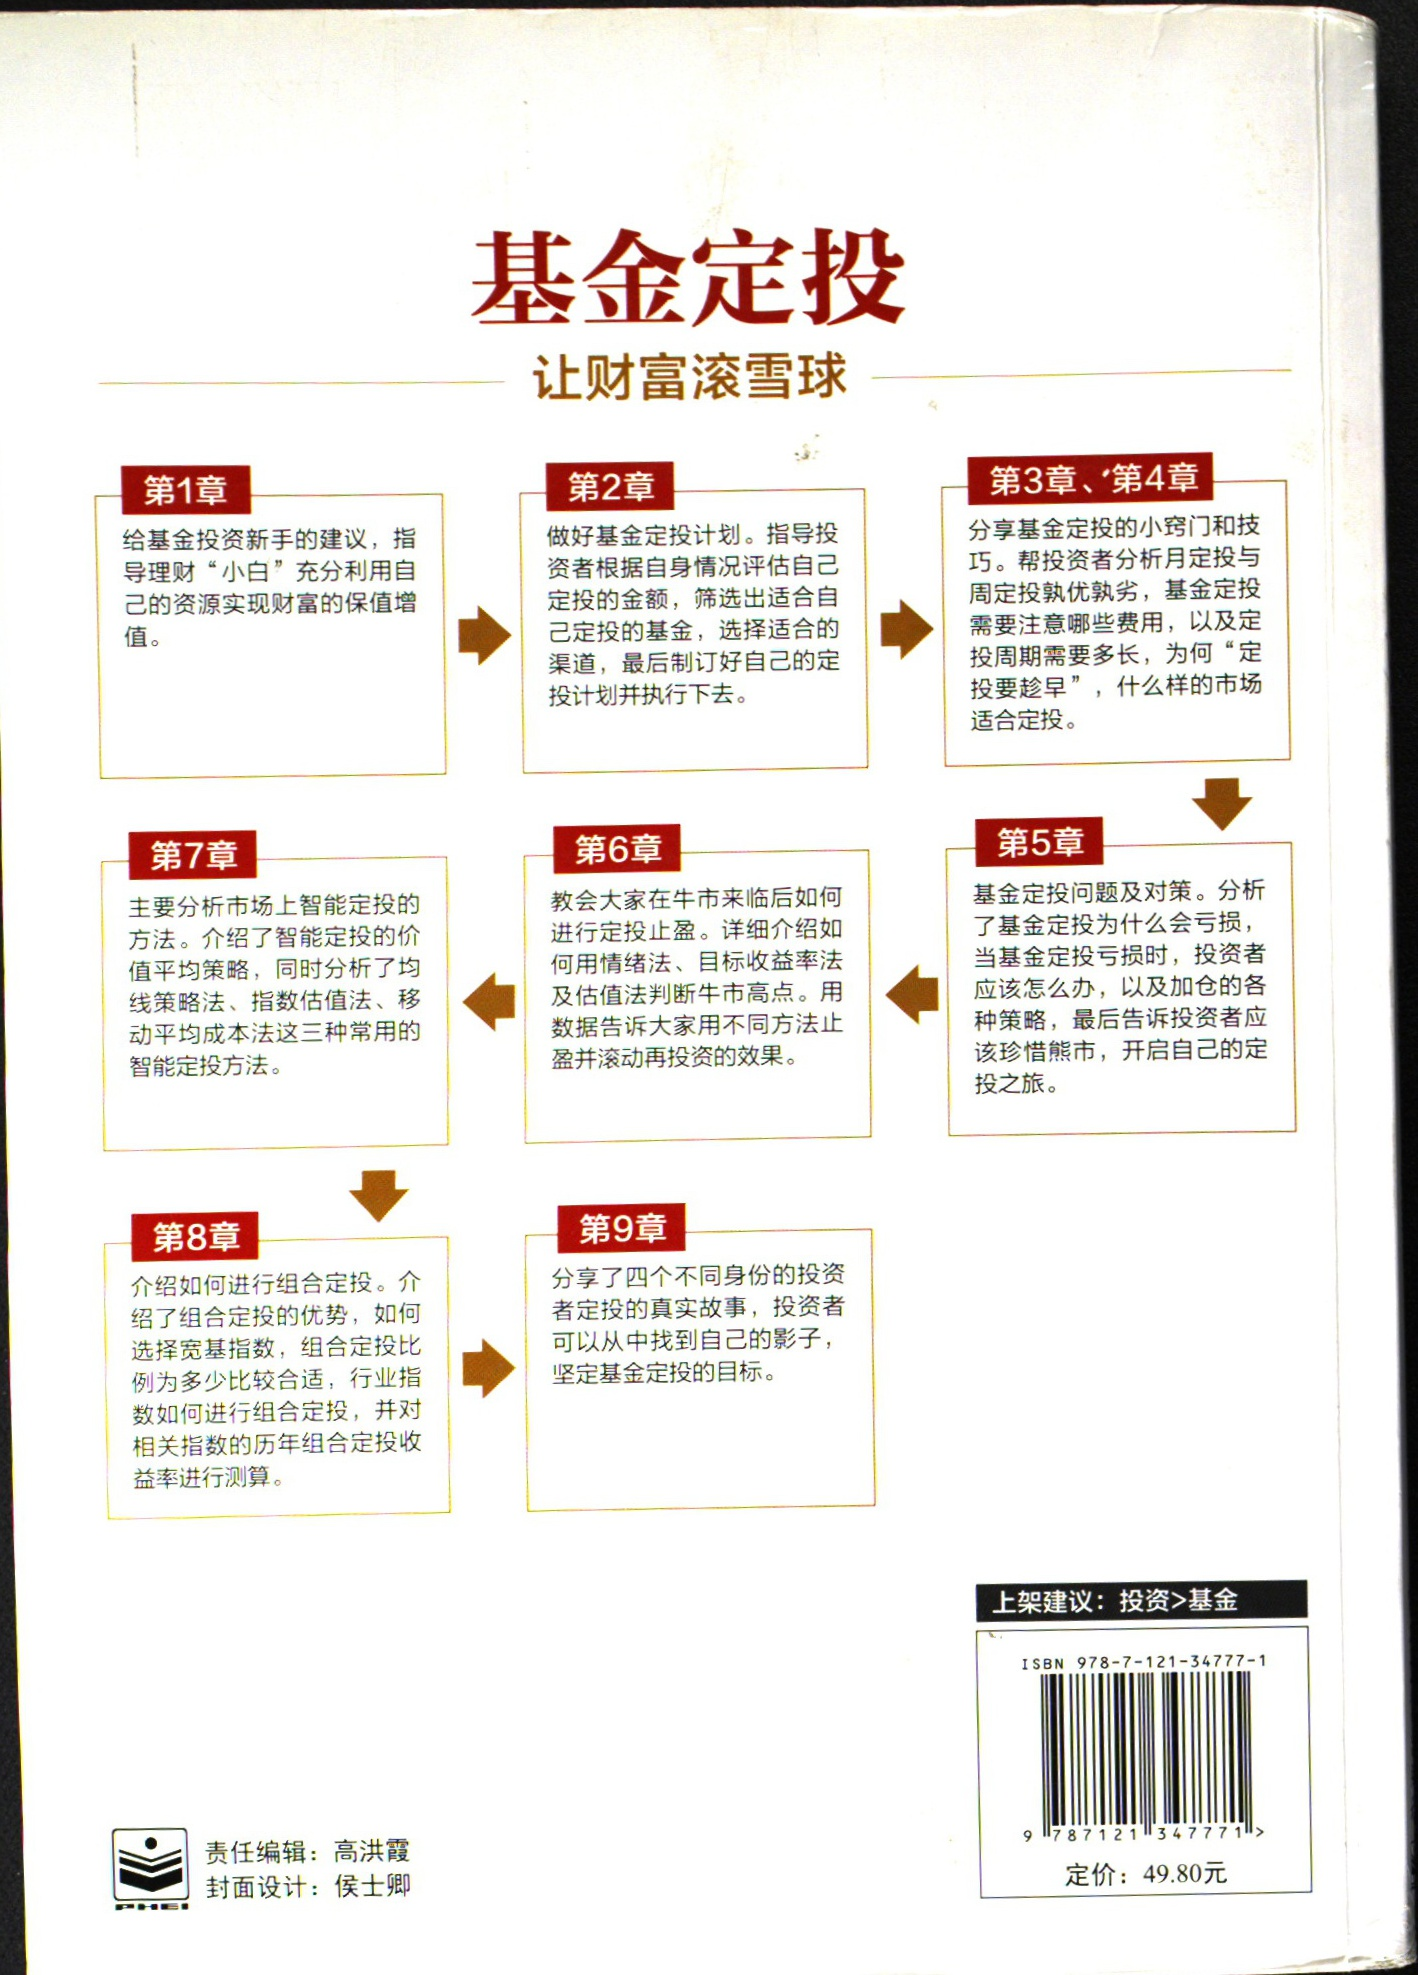barcode: (980, 1638, 1311, 1894)
